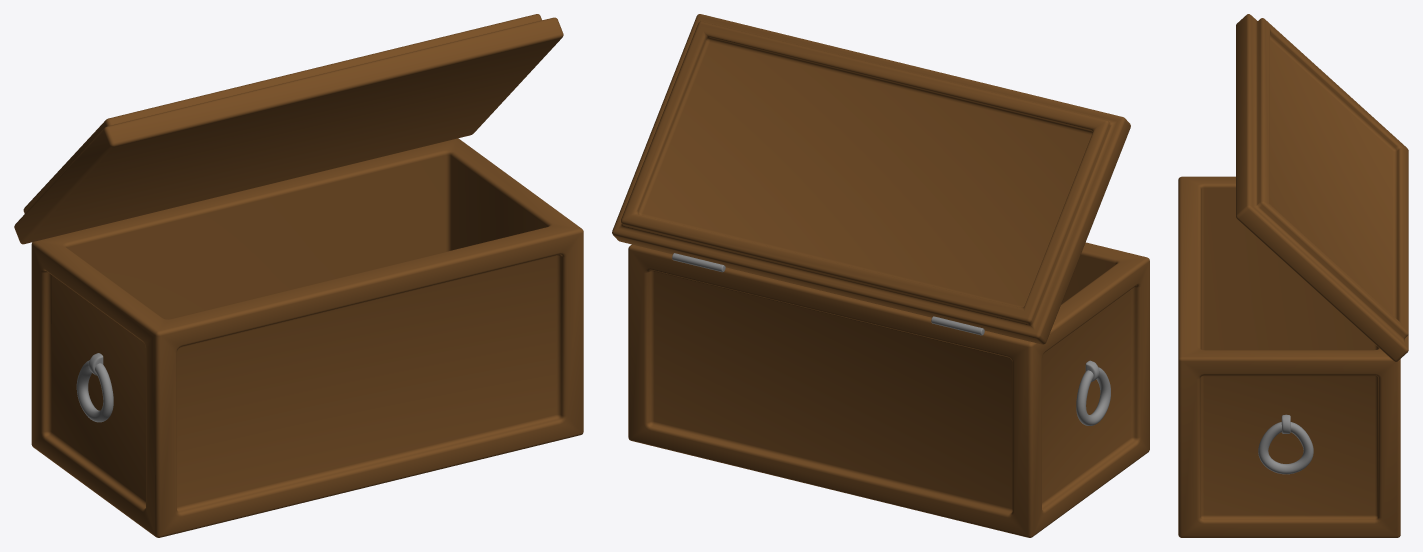
The model's file is SM_Chest_2_MSize_Open.fbx.
The picture shows the model from 3 angles, left to right: view 1: azimuth 30°, elevation 25°; view 2: azimuth 150°, elevation 25°; view 3: azimuth 270°, elevation 25°; orthographic projection. The views are drawn at different scales.
Visible parts, largest first — view 1: Chest_01.001, Metal.003; view 2: Chest_01.001, Metal.003; view 3: Chest_01.001, Metal.003.
Part boxes in pixels (x1,y1,x2,y2): Chest_01.001: [14, 14, 583, 537]; Metal.003: [76, 353, 113, 422]; Chest_01.001: [612, 14, 1149, 537]; Metal.003: [672, 253, 1110, 425]; Chest_01.001: [1178, 14, 1408, 537]; Metal.003: [1258, 414, 1313, 474].
Bounding box in the file's own units: 100 × 81.35 × 50.26.
